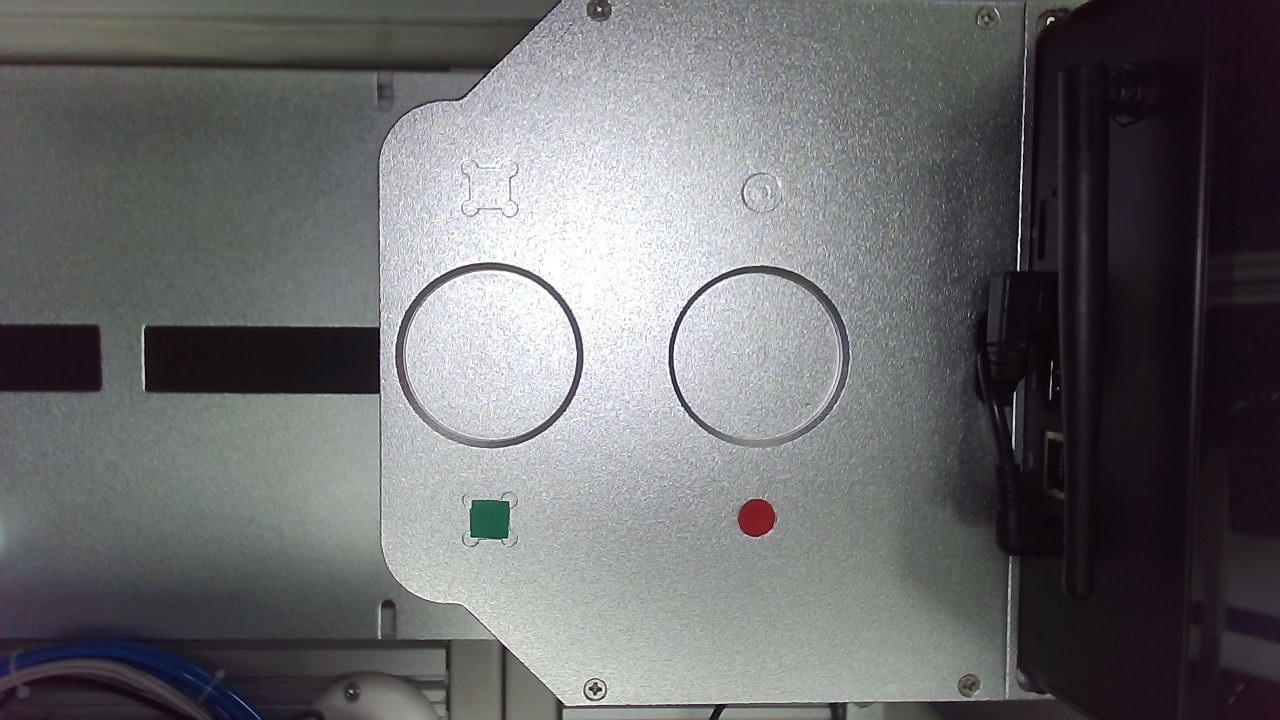XLabel: (459, 420, 496, 454)
YLabel: (229, 423, 263, 458)
none: (165, 498, 329, 668)
transparentempty: (294, 493, 564, 720)
